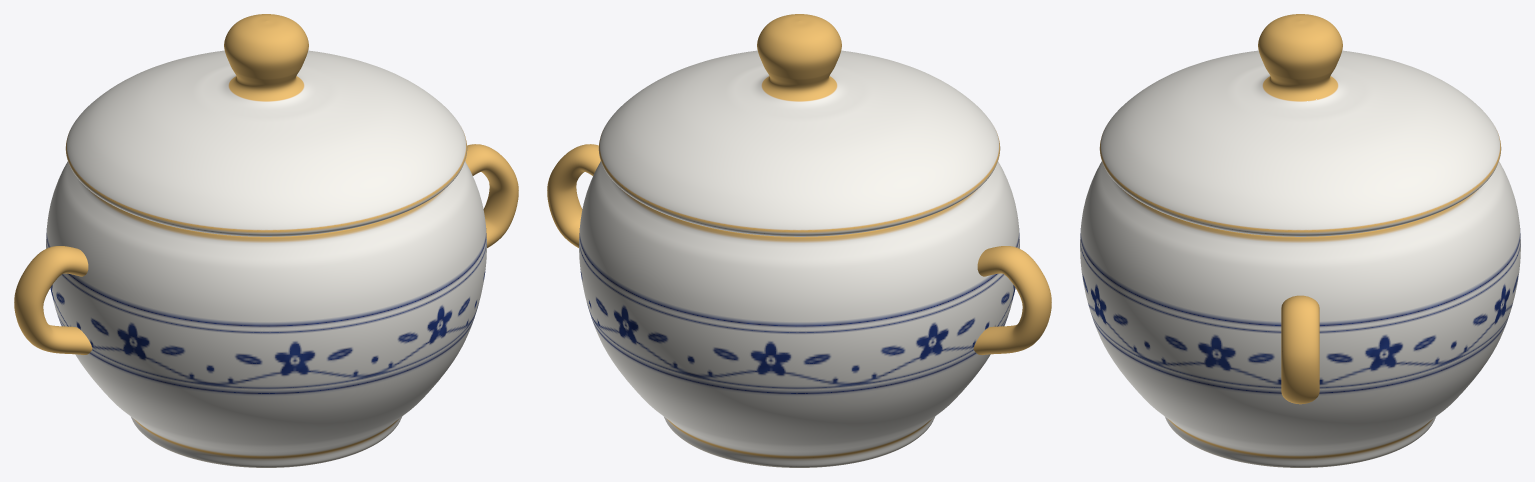
File: sugar-bowl.glb
3 views of the same model, side by side, from view 1: azimuth 30°, elevation 25°; view 2: azimuth 150°, elevation 25°; view 3: azimuth 270°, elevation 25° (orthographic).
Parts seen in each view (by area): view 1: sugar-body, sugar-lid, sugar-handles; view 2: sugar-body, sugar-lid, sugar-handles; view 3: sugar-body, sugar-lid, sugar-handles.
Part boxes in pixels (left/top/right/bottom): sugar-body: left=46, top=161, right=486, bottom=467; sugar-lid: left=65, top=14, right=467, bottom=236; sugar-handles: left=14, top=144, right=518, bottom=355; sugar-body: left=579, top=161, right=1019, bottom=467; sugar-lid: left=598, top=14, right=1000, bottom=236; sugar-handles: left=547, top=144, right=1051, bottom=355; sugar-body: left=1080, top=161, right=1520, bottom=467; sugar-lid: left=1099, top=14, right=1501, bottom=236; sugar-handles: left=1281, top=295, right=1319, bottom=404.
Size of the model in its own units: 0.1437 by 0.1079 by 0.1103.
Materials: 3 (2 with a texture image).
